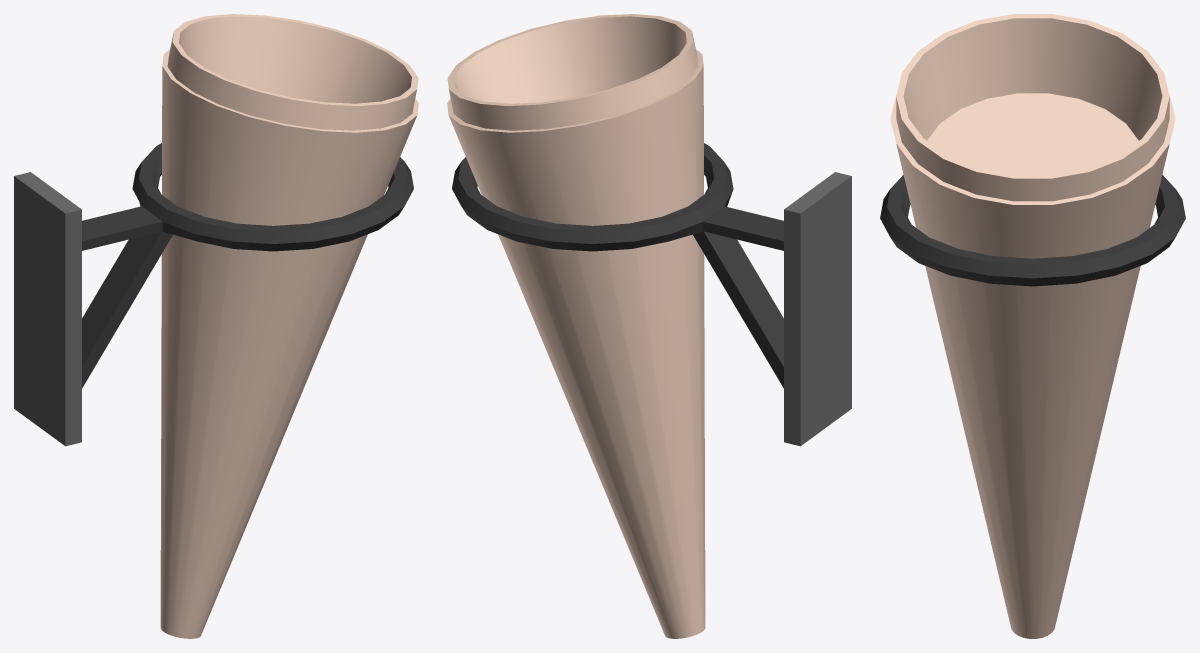
File: Torch.fbx
The picture shows the model from 3 angles, left to right: view 1: azimuth 30°, elevation 25°; view 2: azimuth 150°, elevation 25°; view 3: azimuth 270°, elevation 25°; orthographic projection. The views are drawn at different scales.
Visible parts, largest first — view 1: Torus; view 2: Torus; view 3: Torus.
Part boxes in pixels (x1,y1,x2,y2): Torus: [14, 14, 418, 638]; Torus: [447, 14, 851, 638]; Torus: [880, 14, 1185, 638].
Bounding box in the file's own units: 32.48 × 49.13 × 21.94.
